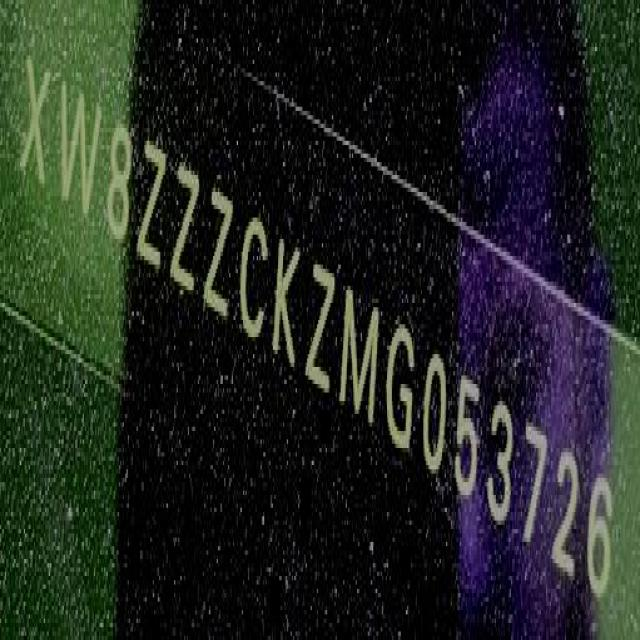0: (414, 338, 457, 501)
2: (546, 429, 590, 594)
3: (478, 376, 521, 537)
5: (446, 356, 485, 520)
6: (582, 462, 624, 608)
7: (513, 399, 555, 562)
8: (100, 108, 146, 248)
C: (231, 201, 269, 351)
G: (383, 306, 425, 467)
K: (265, 222, 309, 383)
M: (334, 277, 382, 443)
W: (51, 67, 112, 226)
X: (21, 44, 50, 198)
Z: (200, 178, 246, 328), (131, 130, 170, 286), (306, 256, 334, 409), (172, 153, 198, 302)
